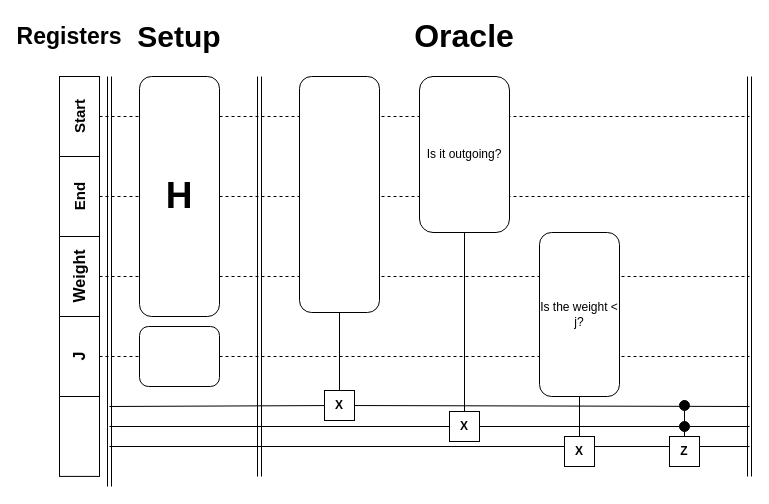
The diagram is 769 pixels wide and 504 high, and some of its shapes have lost their labels. Each missing label, with the box of its shape:
Flags: (58, 395, 100, 476)
Graph Membership: (298, 76, 380, 312)
Set J = 5: (138, 326, 220, 386)
